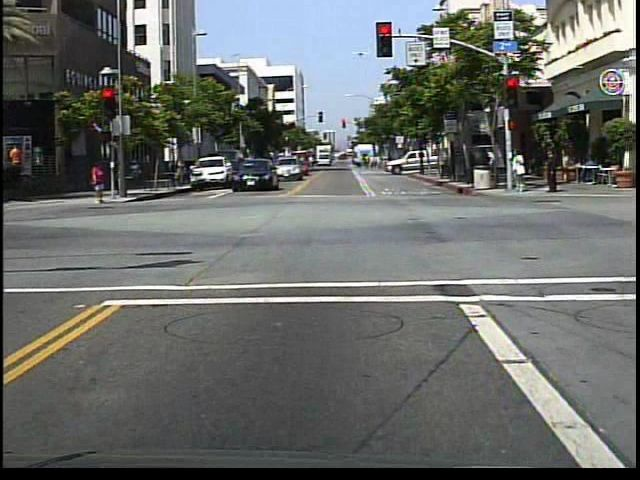person: (541, 145, 561, 194), (510, 146, 528, 196), (91, 159, 110, 206)
